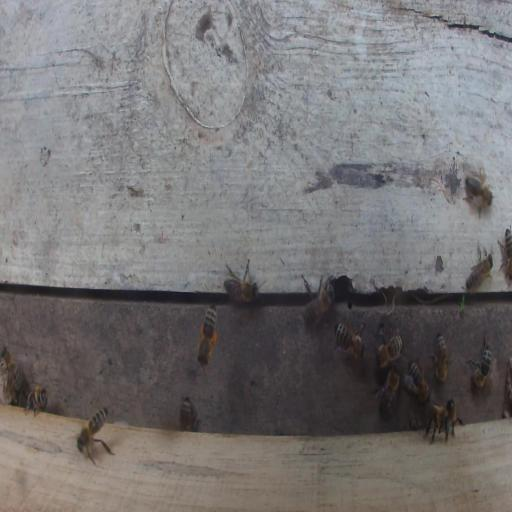bee: (77, 406, 115, 468), (300, 273, 336, 327), (333, 311, 367, 364), (223, 256, 260, 304), (375, 363, 402, 420), (465, 334, 492, 390), (465, 241, 493, 293), (427, 332, 452, 384), (198, 301, 218, 365), (374, 328, 403, 372), (403, 360, 432, 404), (423, 403, 452, 444), (0, 346, 22, 390), (496, 224, 512, 282), (464, 175, 493, 206), (25, 385, 50, 420), (179, 396, 200, 431), (447, 398, 464, 437)
